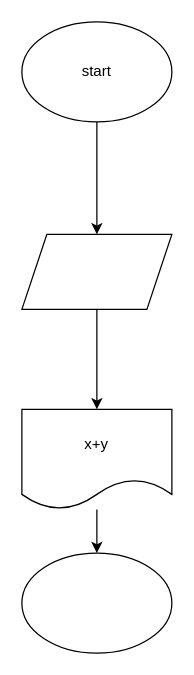
Some shapes in this 194 by 675 pixel diagram are drawn without their labels. The shapes that lost their labels are listed below. From the top down, each one's centre as x and y in pixels, then its label:
At (96,271): "x , y".
At (96,602): "end".
